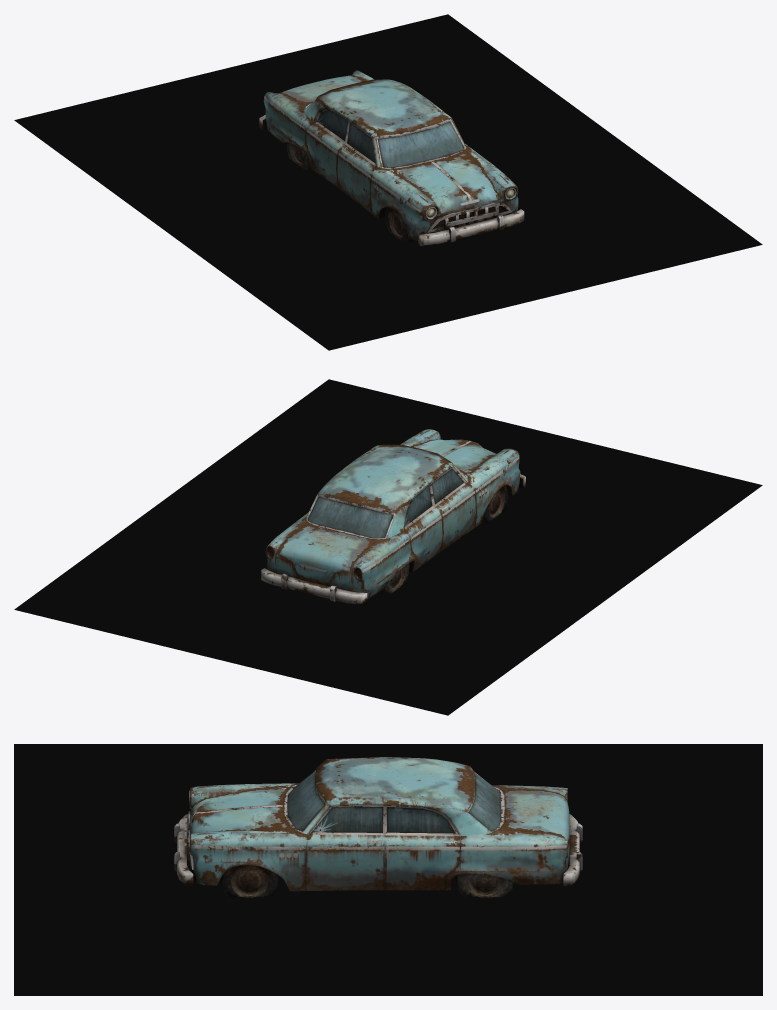
File: car1-transformed.glb
The picture shows the model from 3 angles, top to bottom: view 1: azimuth 30°, elevation 25°; view 2: azimuth 150°, elevation 25°; view 3: azimuth 270°, elevation 25°; orthographic projection. The views are drawn at different scales.
Visible parts, largest first — view 1: Plane001_Material #316_0, Object006_Material #294_0, Object007_Material #295_0; view 2: Plane001_Material #316_0, Object006_Material #294_0, Object007_Material #295_0; view 3: Plane001_Material #316_0, Object006_Material #294_0, Object007_Material #295_0.
Boxes of the visible parts, bbox=[...] form: Plane001_Material #316_0: bbox=[14, 14, 762, 350]; Object006_Material #294_0: bbox=[259, 70, 524, 246]; Object007_Material #295_0: bbox=[317, 110, 463, 167]; Plane001_Material #316_0: bbox=[14, 379, 762, 715]; Object006_Material #294_0: bbox=[261, 429, 525, 604]; Object007_Material #295_0: bbox=[308, 469, 465, 538]; Plane001_Material #316_0: bbox=[14, 744, 762, 995]; Object006_Material #294_0: bbox=[174, 757, 582, 897]; Object007_Material #295_0: bbox=[287, 771, 501, 833].
Size of the model in its own units: 1056 by 185 by 1327.
Materials: 3 (3 with a texture image).
